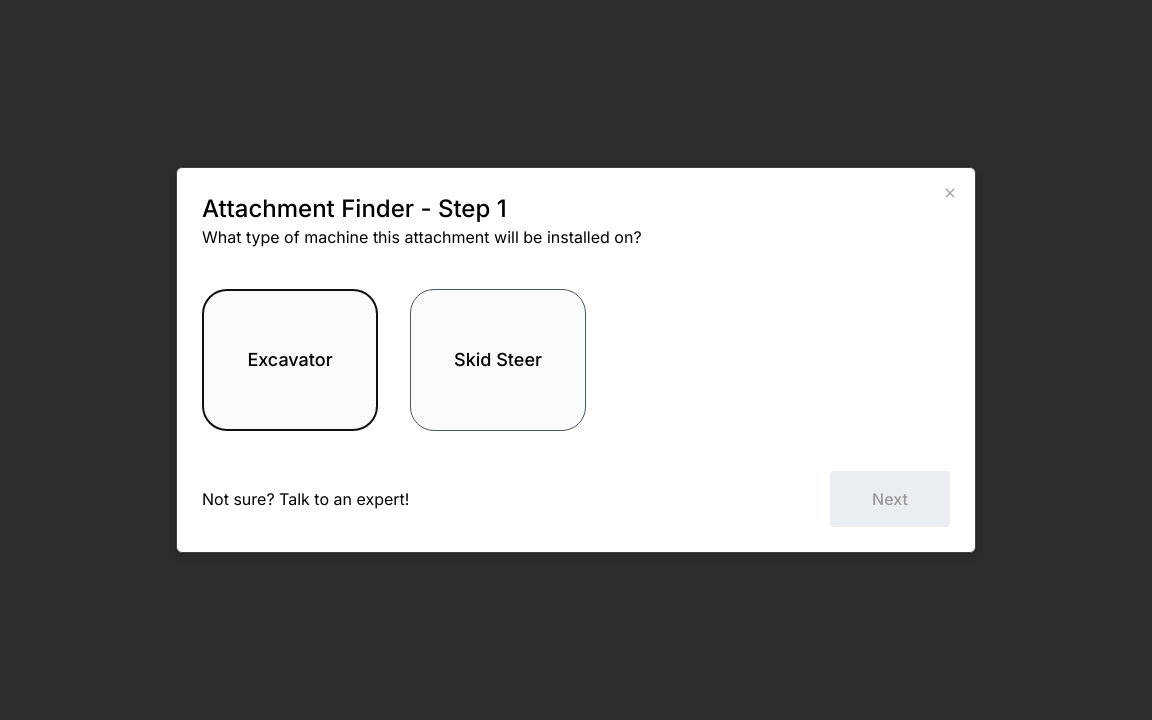
Attachment finder modal › should back a step when back button was clicked
The width and height of the screenshot is (1152, 720).
Click the button "Skid Steer". click: (498,360)
box: [410,289,586,431]
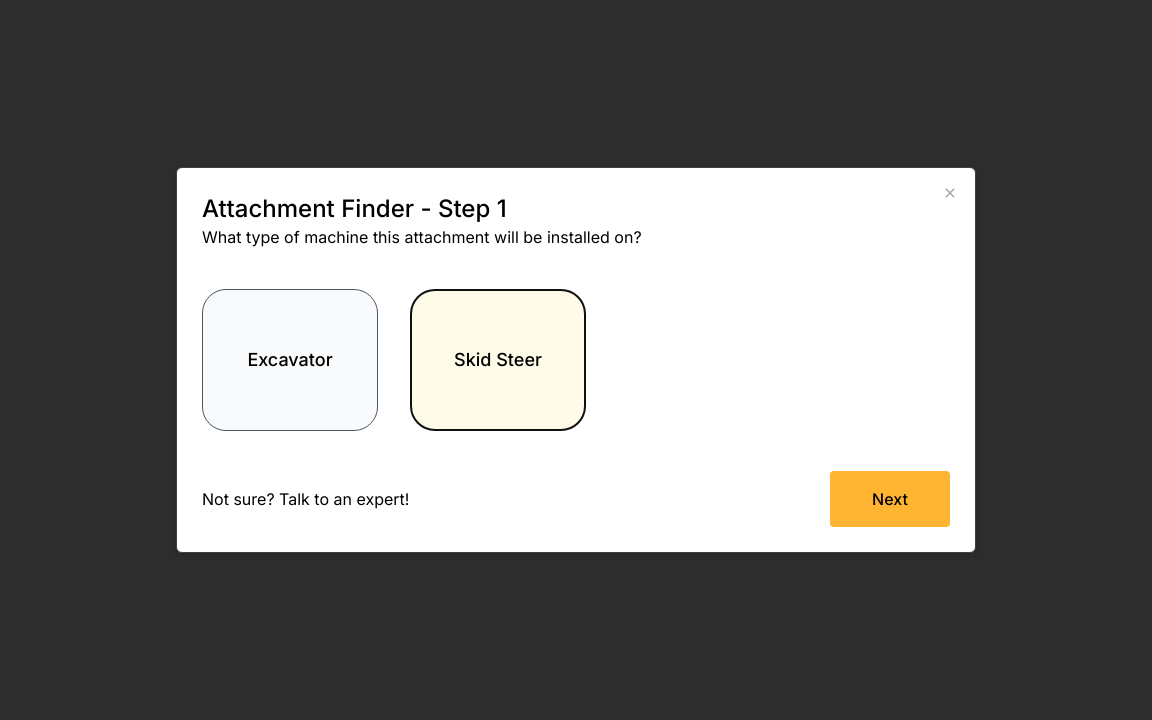
Click the button "Next". click: (890,499)
box: [830,471,950,527]
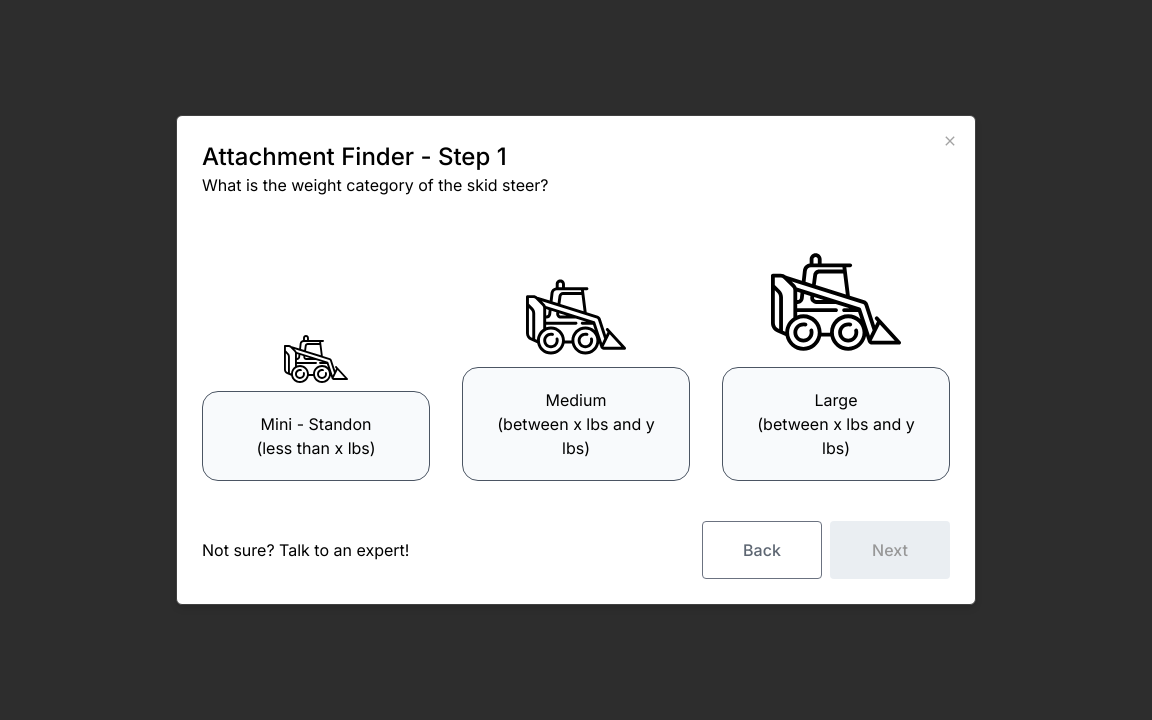
Now the text "What is the weight category of the skid steer?" is shown, box [202,175,548,195]
Click the button "Back". click: (762,550)
box: [702,521,822,579]
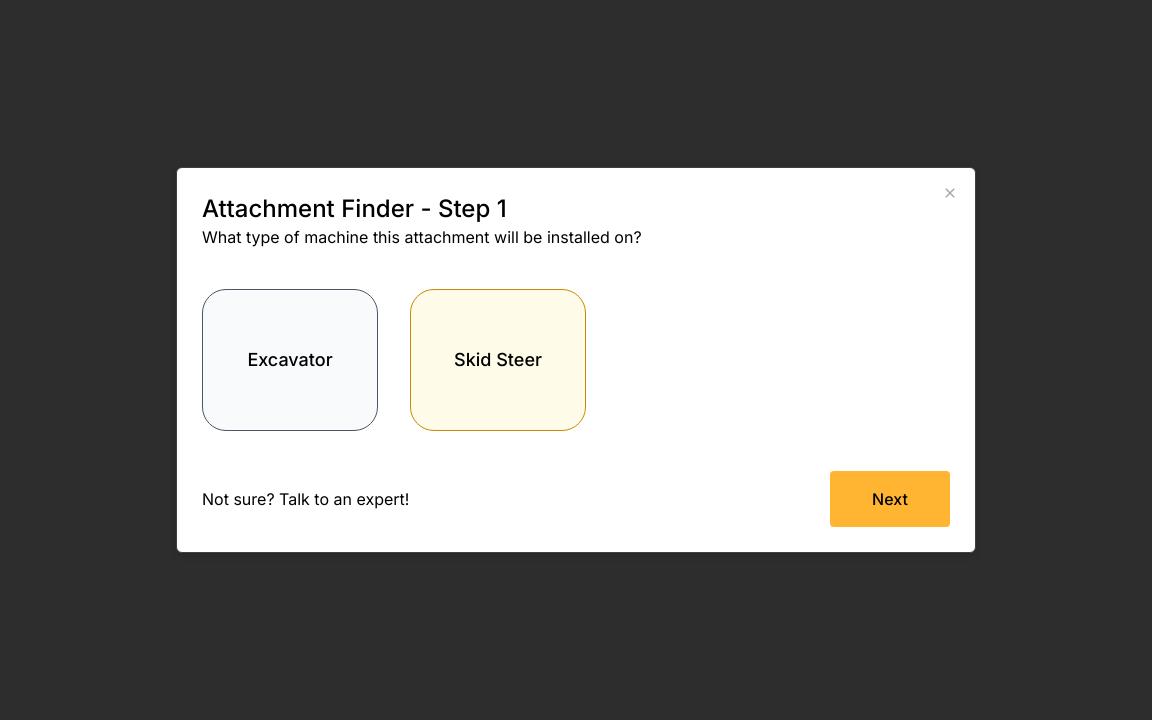
Now the text "What type of machine this attachment will be installed on?" is shown, box [202,227,642,247]
